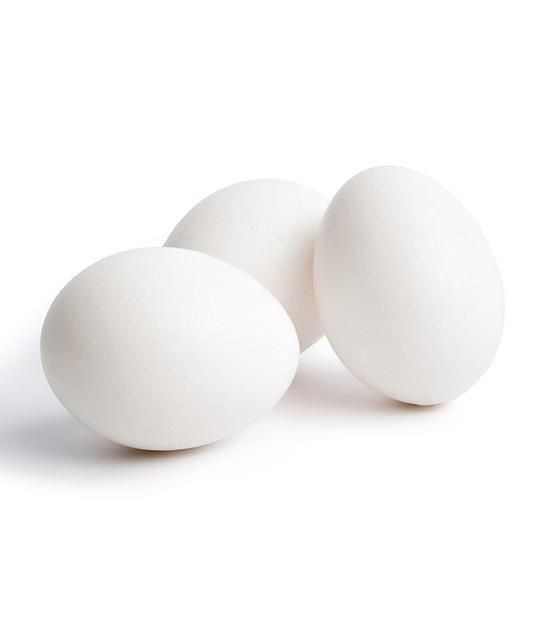egg: (29, 242, 302, 458), (312, 166, 504, 414)
